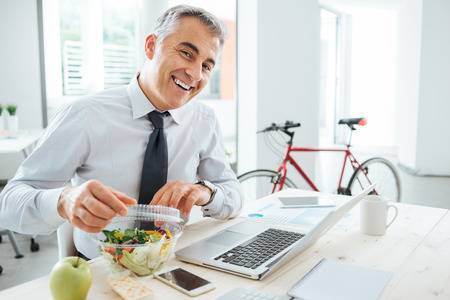F_shirt: (1, 76, 243, 259)
F_tie: (142, 110, 176, 203)
